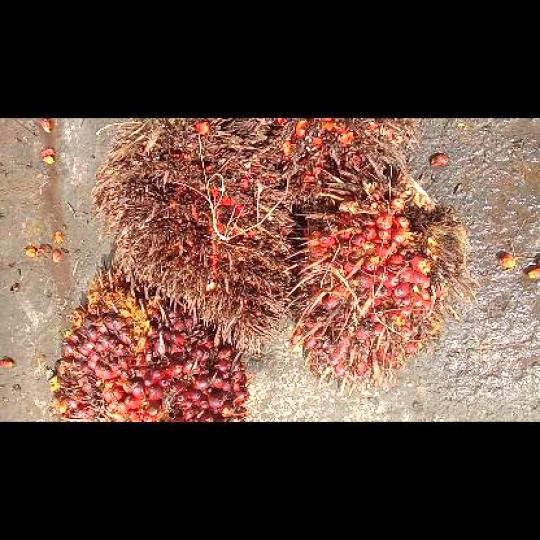masak: (280, 197, 478, 395), (51, 260, 248, 420)
terlalu masak: (92, 117, 293, 355), (270, 117, 434, 210)
